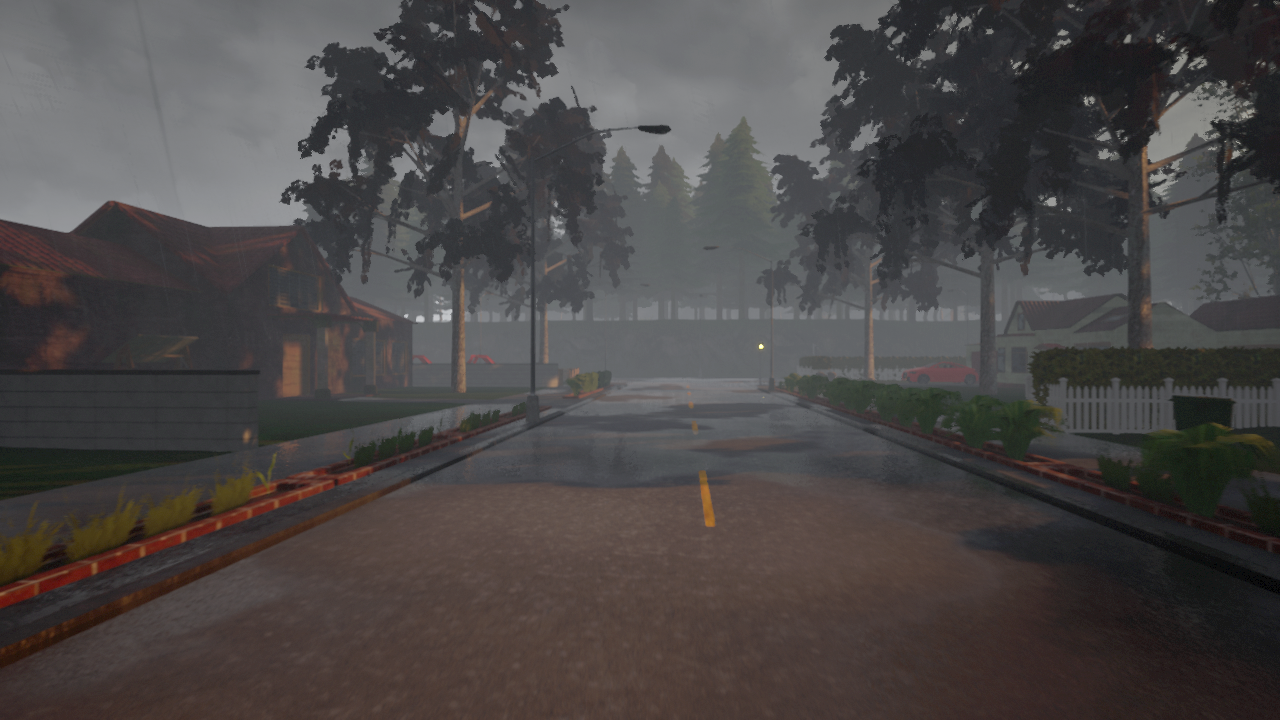yellow: (757, 337, 765, 355)
